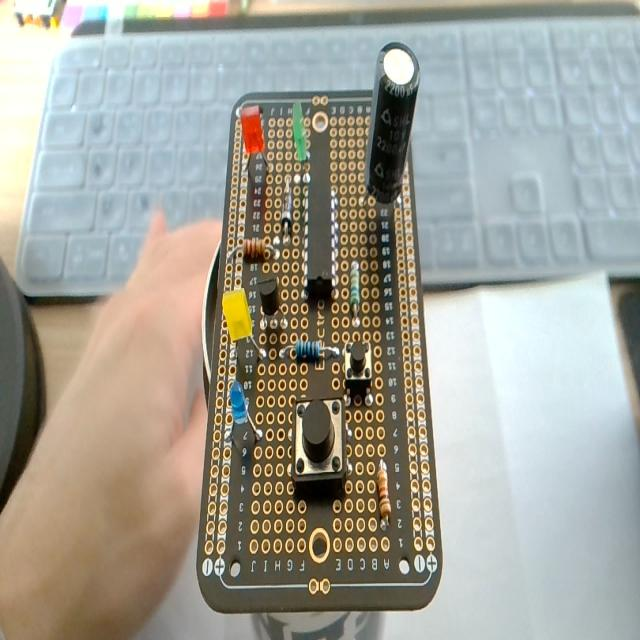Electrolytic capacitor: (364, 43, 420, 204)
IC: (299, 191, 343, 305)
led: (222, 288, 264, 365), (228, 381, 262, 451), (239, 103, 270, 176), (222, 288, 253, 341), (292, 102, 308, 160)
resistor: (278, 340, 341, 364), (348, 254, 361, 328), (376, 459, 390, 525), (282, 178, 293, 235), (295, 339, 321, 363), (245, 237, 268, 260)
switch: (293, 398, 346, 488), (344, 341, 372, 403)
